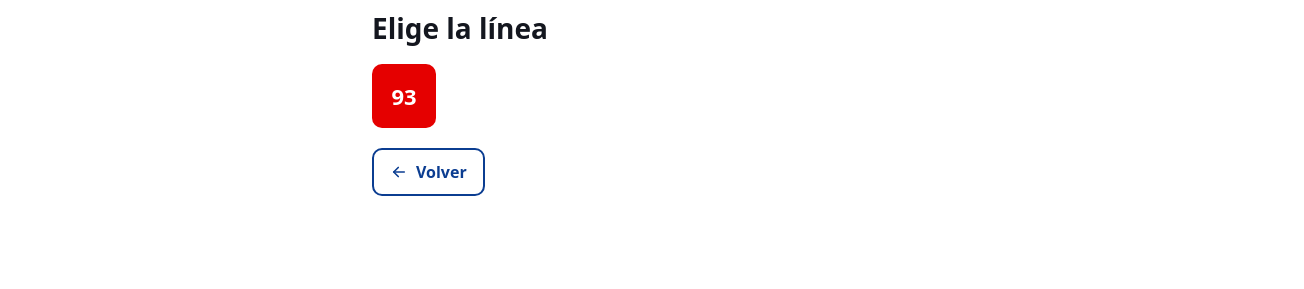
Scenario: ShiftPage › [driver_ui.AC-02] after choosing the departure it shows the demand view with that departure
What coordinates should you click on to do the following:
click the button named "Línea 93"
I would click on:
 (404, 96)
Its box is [372,64,436,128].
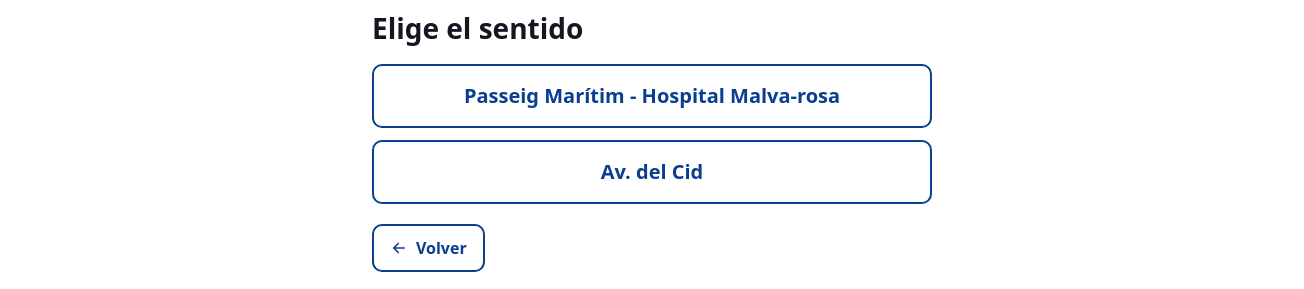
What coordinates should you click on to do the following:
click the button "Passeig Marítim - Hospital Malva-rosa"
I would click on:
 (652, 96)
Its box is [372,64,932,128].
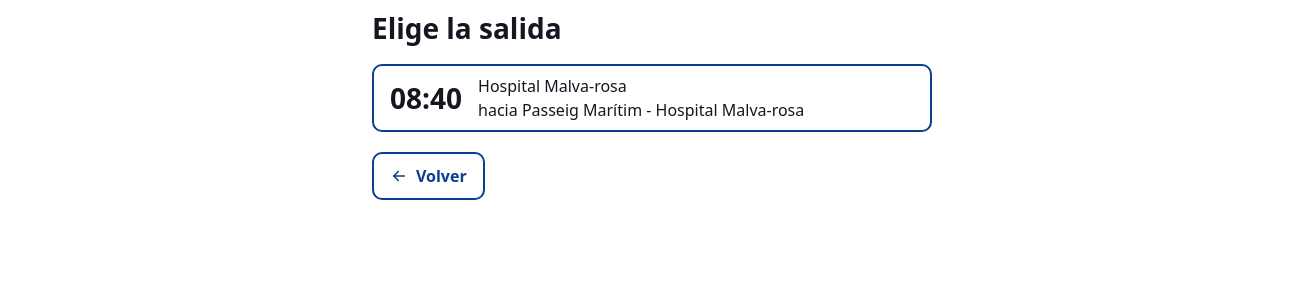
What coordinates should you click on to do the following:
click the button "08:40"
I would click on:
 (652, 98)
Its box is [372,64,932,132].
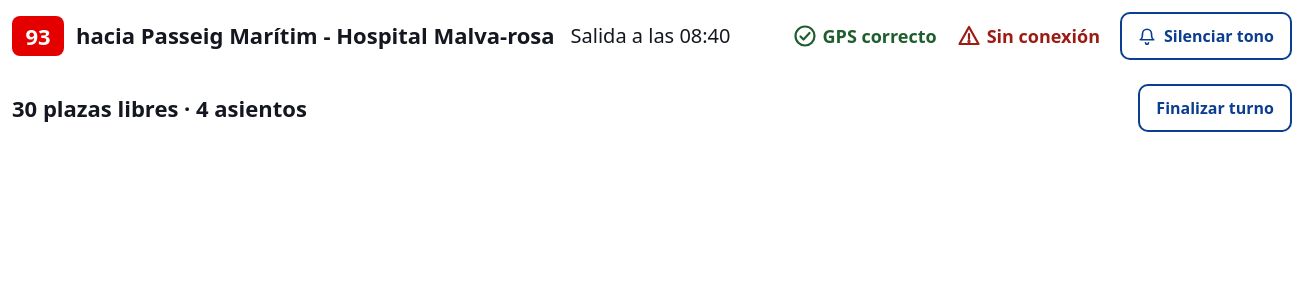
Expected: the text "Salida a las 08:40" is shown, [571,22,731,50]
